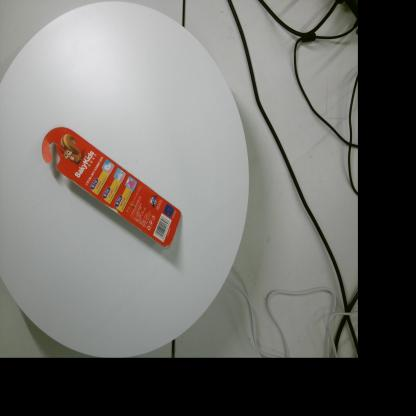Personal Hygiene: (42, 127, 181, 249)
